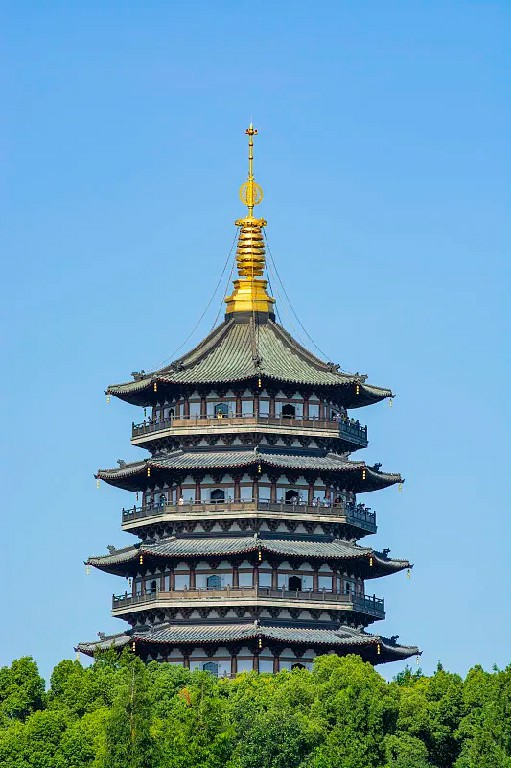Leifeng: (72, 113, 425, 677)
